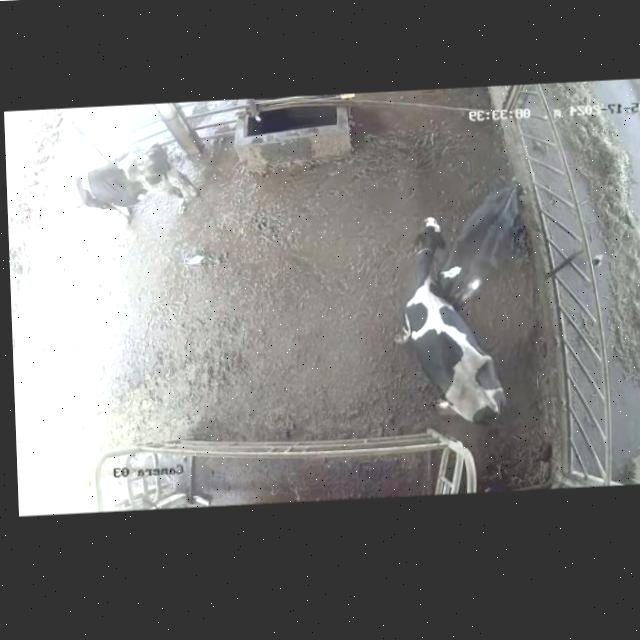stand: (382, 201, 517, 440), (60, 125, 204, 242), (438, 171, 543, 309)
